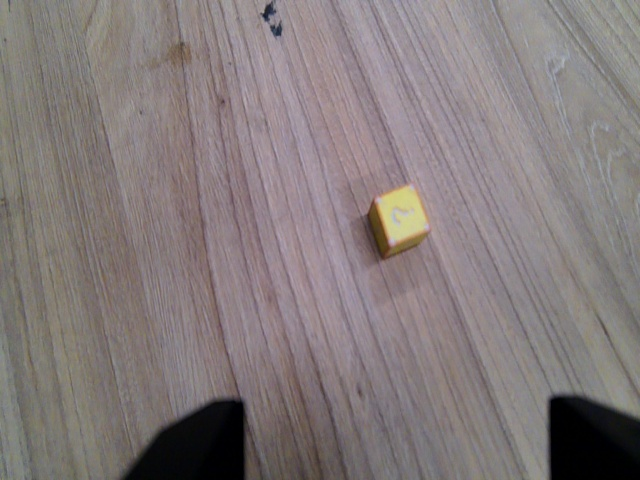lucky: (360, 182, 436, 264)
